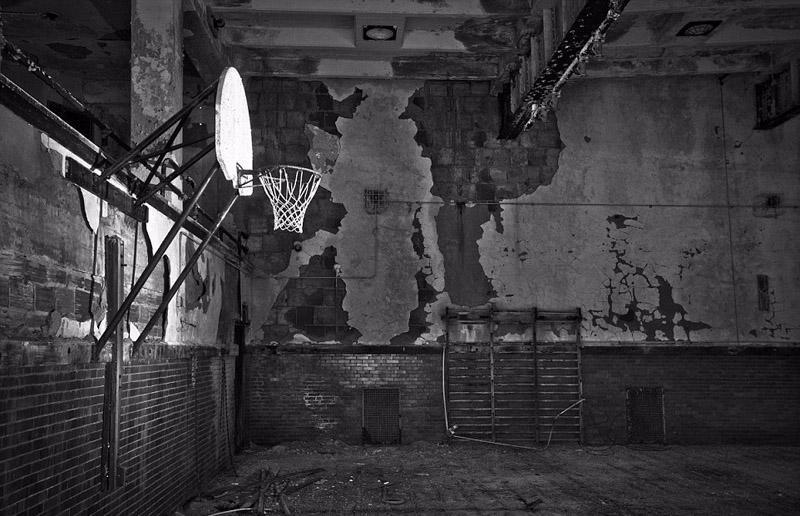rim: (253, 165, 324, 232)
